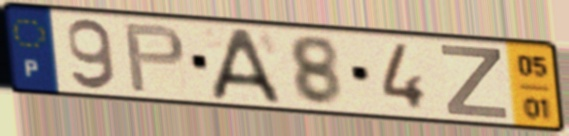4: (379, 41, 431, 113)
8: (286, 32, 346, 109)
9: (64, 16, 119, 92)
A: (208, 27, 286, 105)
P: (120, 22, 189, 95)
Z: (437, 42, 512, 122)
